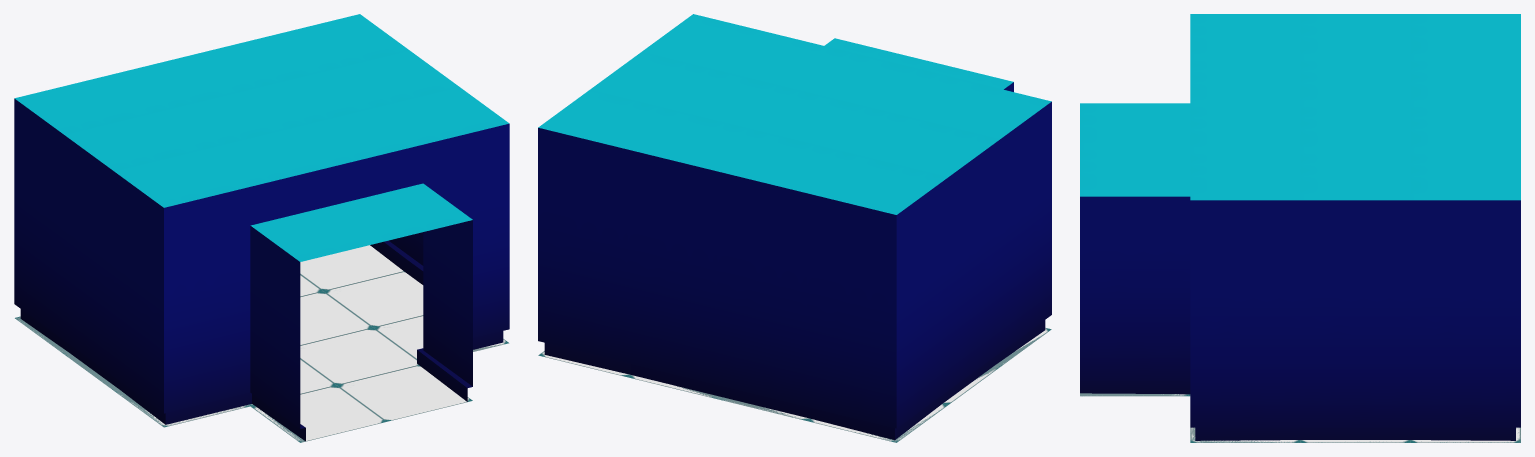
Rendered from SalaPequena.fbx.
3 views of the same model, side by side, from view 1: azimuth 30°, elevation 25°; view 2: azimuth 150°, elevation 25°; view 3: azimuth 270°, elevation 25° (orthographic). The views are drawn at different scales.
Visible parts, largest first — view 1: SalaPequena; view 2: SalaPequena; view 3: SalaPequena.
Part boxes in pixels (x1=…): SalaPequena: x1=14, y1=14, x2=509, y2=442; SalaPequena: x1=538, y1=14, x2=1051, y2=442; SalaPequena: x1=1080, y1=14, x2=1520, y2=442.
Size of the model in its own units: 400 by 243 by 400.
1 material, 1 textured.
